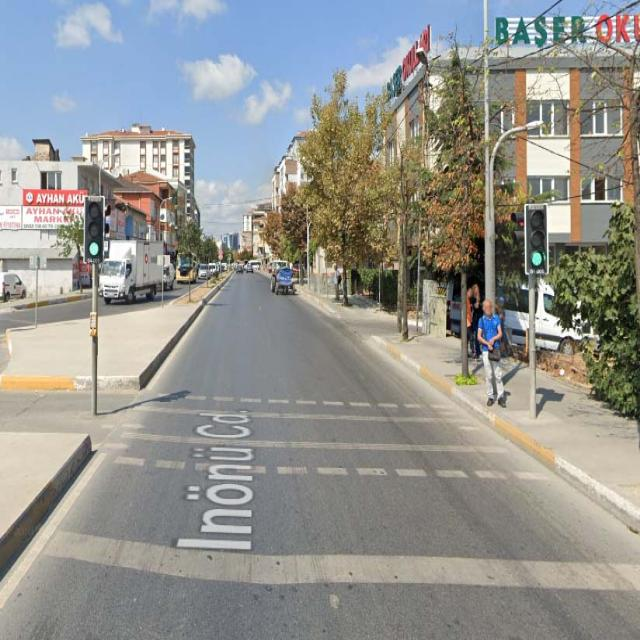yesil: (524, 205, 548, 276), (84, 195, 104, 263)
